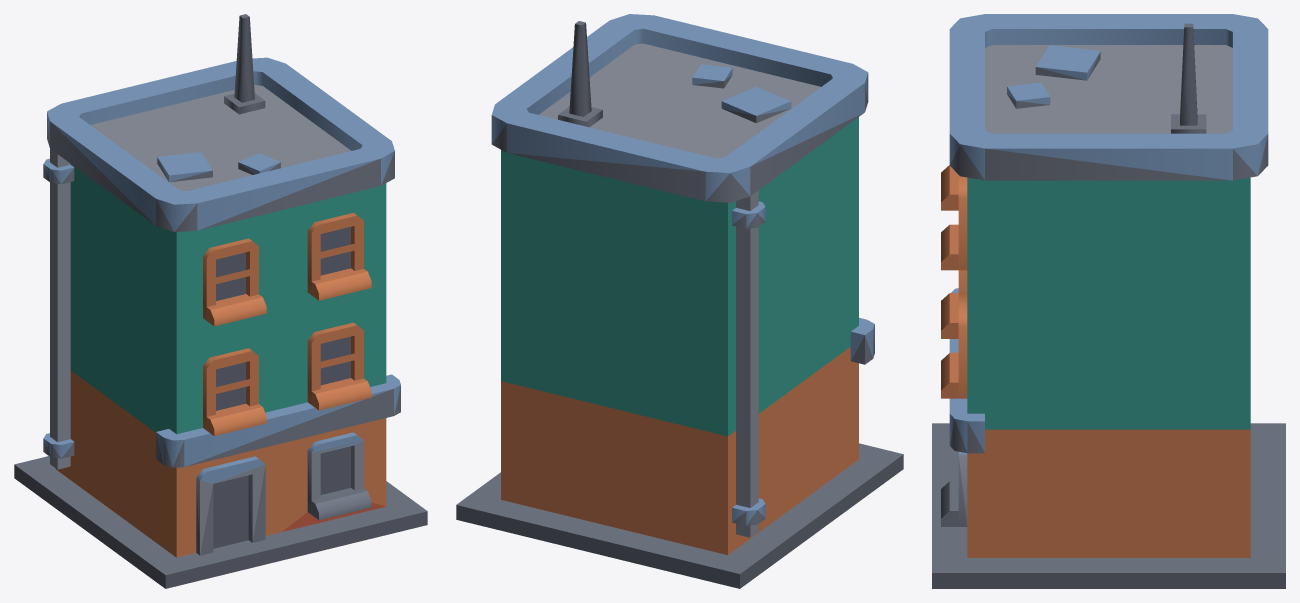
File: building-small-b.glb
3 views of the same model, side by side, from view 1: azimuth 30°, elevation 25°; view 2: azimuth 150°, elevation 25°; view 3: azimuth 270°, elevation 25° (orthographic). The views are drawn at different scales.
Visible parts, largest first — view 1: building-small-b; view 2: building-small-b; view 3: building-small-b.
Boxes of the visible parts, x1,y1,x2,y2 form: building-small-b: (14,14,427,588); building-small-b: (456,14,903,588); building-small-b: (932,14,1285,588).
Bounding box in the file's own units: 12 × 19.52 × 12.
